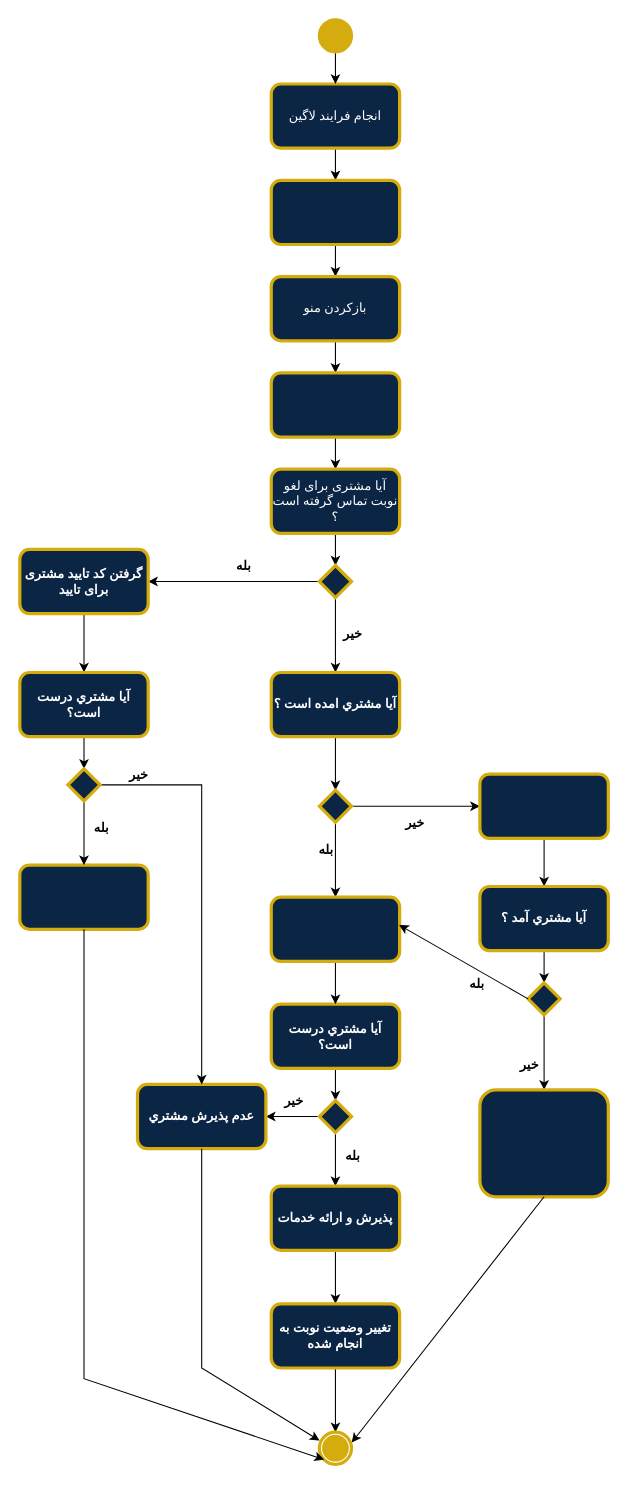
Some shapes in this 628 by 1487 pixel diagram are drawn without their labels. Here are the shapes that lost their labels. From the top down, the centre of each, then its label:
At (x=335, y=212): "باز شدن داشبور كاری من".
At (x=335, y=404): "ديدن ليست نوبت ها".
At (x=543, y=805): "صبر براي چند دقيقه".
At (x=83, y=896): "تغيير وضعيت نوبت به لغو شده".
At (x=335, y=928): "گرفتن كد براي تاييد مشتري".
At (x=543, y=1143): "تماس با مشتري براي هماهنگي هاي لازم و در صورت نياز تغيير وضعيت نوبت به عدم حضور".
